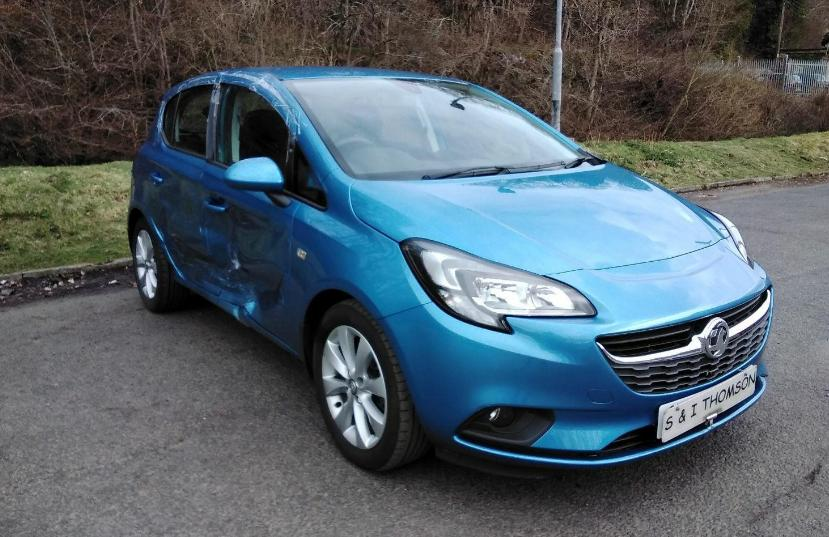Back-door: (145, 75, 220, 288)
Back-wheel: (132, 219, 184, 313)
Back-window: (162, 84, 213, 156)
Fender: (288, 168, 431, 358)
Front-bumper: (375, 235, 772, 468)
Front-door: (200, 75, 299, 342)
Front-wheel: (313, 301, 429, 471)
Front-window: (212, 83, 328, 210)
Grille: (596, 289, 771, 392)
Headlight: (399, 239, 596, 332), (703, 206, 748, 263)
Hood: (351, 160, 730, 277)
License-plate: (656, 366, 757, 442)
Mirror: (225, 156, 292, 208)
Quarter-panel: (128, 140, 179, 272)
Rocker-panel: (174, 269, 304, 362)
Roof: (246, 66, 467, 84)
Windshield: (280, 78, 593, 180)
